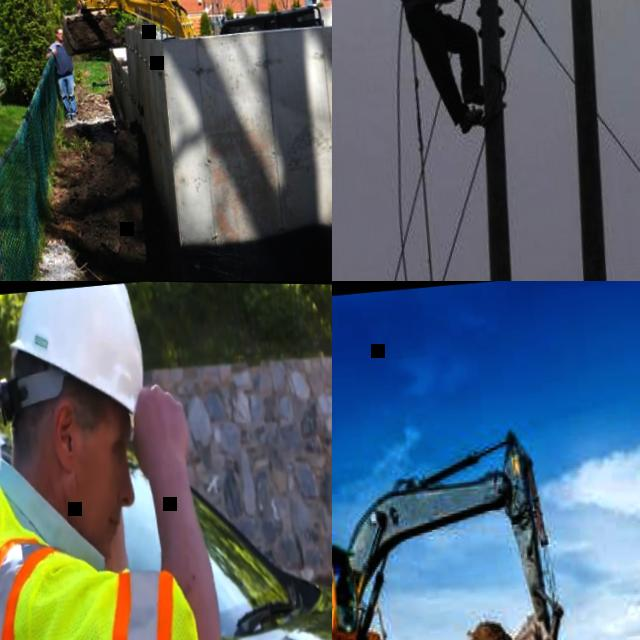Hardhat: (3, 281, 147, 426)
NO-Hardhat: (54, 25, 64, 33)
NO-Mask: (59, 434, 122, 565), (55, 34, 64, 41)
NO-Safety Vest: (53, 38, 76, 75)
Person: (0, 281, 254, 640), (386, 0, 492, 137), (43, 23, 81, 118)
Safety Vest: (0, 468, 219, 640)
vehicle: (0, 339, 332, 640), (332, 418, 574, 640), (54, 0, 197, 59), (218, 1, 324, 37)
